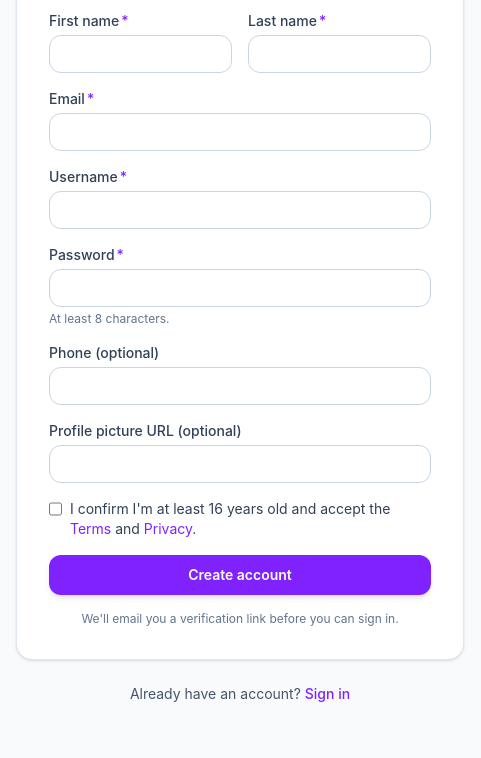
Test case: SignUp page › shows validation errors on empty submit
(page scrolled)
Click the button "Create account": (240, 575) [49, 555, 431, 595]
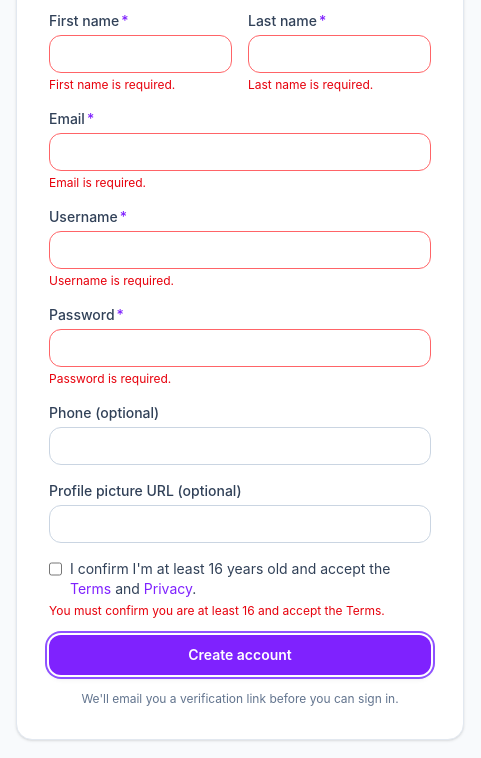
Check: the text "First name is required." is shown, box [49, 77, 175, 92]
Check: the text "Last name is required." is shown, box [248, 77, 373, 92]
Check: the text "Email is required." is shown, box [49, 175, 146, 190]
